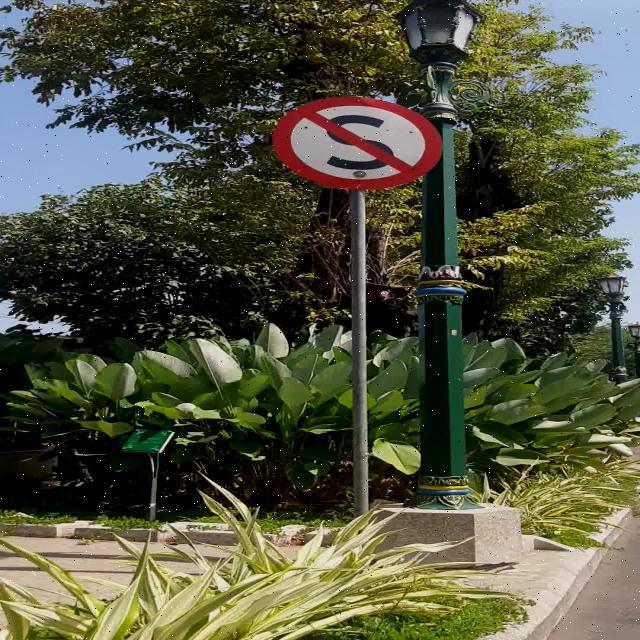Dilarang Berhenti: (272, 96, 443, 190)
